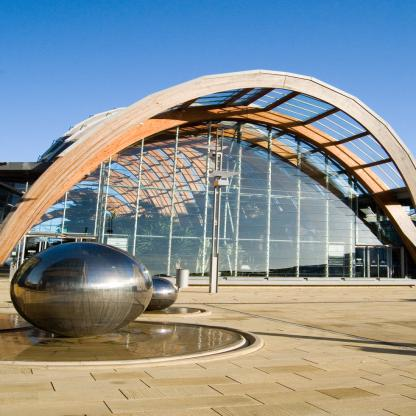Ball: (10, 242, 155, 337), (145, 276, 178, 311)
